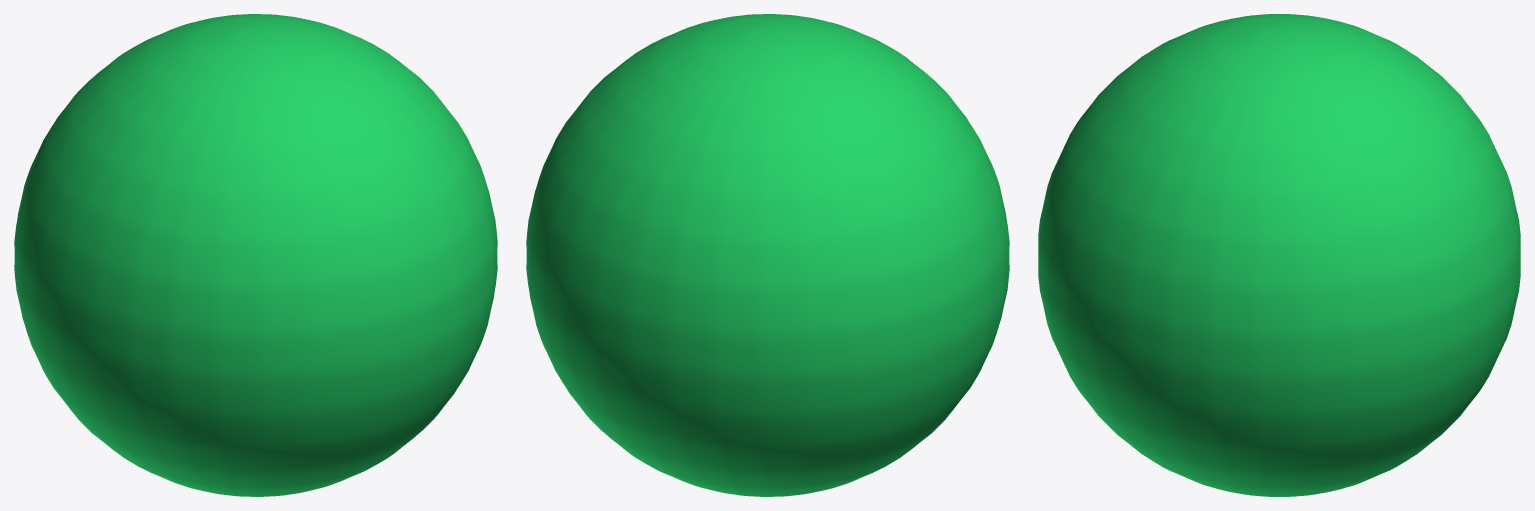
File: Planet_1.fbx
3 renders of one model, left to right at view 1: azimuth 30°, elevation 25°; view 2: azimuth 150°, elevation 25°; view 3: azimuth 270°, elevation 25°, orthographic.
Visible parts, largest first — view 1: Top, Bottom; view 2: Top, Bottom; view 3: Top, Bottom.
Boxes of the visible parts, x1,y1,x2,y2 form: Top: (14, 14, 497, 357); Bottom: (14, 257, 497, 496); Top: (526, 14, 1009, 357); Bottom: (526, 257, 1009, 496); Top: (1038, 14, 1520, 357); Bottom: (1038, 262, 1520, 496).
Bounding box in the file's own units: 20022 × 20016 × 20022.
